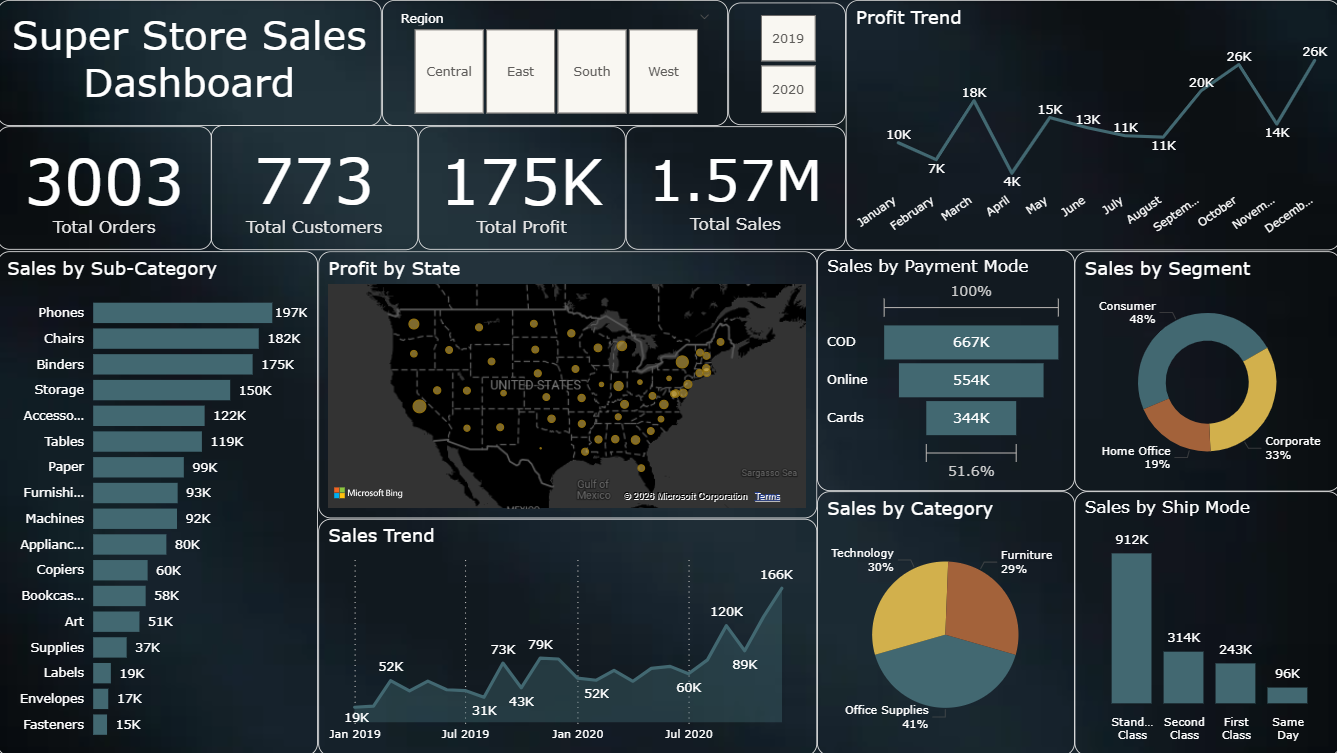

Layout of this report page (visuals, bound fields, positions):
{"tool":"powerbi","page":{"name":"Page 1","canvas":[1280,720],"ordinal":0},"visuals":[{"type":"pieChart","title":"Sales by Category","fields":{"Category":["SuperStore_Sales_Dataset.Category"],"Y":["Sum(SuperStore_Sales_Dataset.Sales)"]},"box":[781,467.9,245.2,252.4],"z":0},{"type":"columnChart","title":"Sales by Ship Mode","fields":{"Category":["SuperStore_Sales_Dataset.Ship Mode"],"Y":["Sum(SuperStore_Sales_Dataset.Sales)"]},"box":[1026.2,467.9,253.6,252.4],"z":1000},{"type":"areaChart","title":"Sales Trend","fields":{"Category":["SuperStore_Sales_Dataset.Order Date.Variation.Date Hierarchy.Year","SuperStore_Sales_Dataset.Order Date.Variation.Date Hierarchy.Month"],"Y":["Sum(SuperStore_Sales_Dataset.Sales)"]},"box":[306,494.1,475,226.2],"z":2000},{"type":"barChart","title":"Sales by Sub-Category","fields":{"Y":["Sum(SuperStore_Sales_Dataset.Sales)"],"Category":["SuperStore_Sales_Dataset.Sub-Category"]},"box":[0,239.3,306,481],"z":3000},{"type":"lineChart","title":"Profit Trend","fields":{"Category":["SuperStore_Sales_Dataset.Order Date.Variation.Date Hierarchy.Month"],"Y":["Sum(SuperStore_Sales_Dataset.Profit)"]},"box":[808.3,0,471.4,238.1],"z":4000},{"type":"donutChart","title":"Sales by Segment","fields":{"Category":["SuperStore_Sales_Dataset.Segment"],"Y":["Sum(SuperStore_Sales_Dataset.Sales)"]},"box":[1026.2,239.3,253.6,228.6],"z":5000},{"type":"funnel","title":"Sales by Payment Mode","fields":{"Category":["SuperStore_Sales_Dataset.Payment Mode"],"Y":["Sum(SuperStore_Sales_Dataset.Sales)"]},"box":[781,238.1,245.2,229.8],"z":6000},{"type":"map","title":"Profit by State","fields":{"Category":["SuperStore_Sales_Dataset.State"],"Size":["Sum(SuperStore_Sales_Dataset.Profit)"]},"box":[306,239.3,475,254.8],"z":7000},{"type":"card","fields":{"Values":["SuperStore_Sales_Dataset.Total Profit"]},"box":[401.2,120.2,197.6,117.9],"z":8000},{"type":"card","fields":{"Values":["SuperStore_Sales_Dataset.Total Sales"]},"box":[598.8,120.2,209.5,117.9],"z":9000},{"type":"card","fields":{"Values":["SuperStore_Sales_Dataset.Total Customers"]},"box":[203.6,119,197.6,119],"z":10000},{"type":"card","fields":{"Values":["SuperStore_Sales_Dataset.Total Order1"]},"box":[0,120.2,204.8,117.9],"z":11000},{"type":"textbox","box":[0,0,366.7,120.2],"z":12000},{"type":"slicer","fields":{"Values":["SuperStore_Sales_Dataset.Region"]},"box":[366.7,0,329.8,120.2],"z":13000},{"type":"slicer","fields":{"Values":["SuperStore_Sales_Dataset.Order Date.Variation.Date Hierarchy.Year"]},"box":[696.4,2.4,111.9,116.7],"z":14000}]}

Visuals, with their boxes in screenshot pixels (x1, y1, x2, y2), scaled from the page's 1280x720 canvas onto the 1337x753 screenshot:
"Sales by Category" pieChart: (x1=816, y1=489, x2=1072, y2=752)
"Sales by Ship Mode" columnChart: (x1=1072, y1=489, x2=1336, y2=752)
"Sales Trend" areaChart: (x1=320, y1=517, x2=816, y2=752)
"Sales by Sub-Category" barChart: (x1=0, y1=250, x2=320, y2=752)
"Profit Trend" lineChart: (x1=844, y1=0, x2=1336, y2=249)
"Sales by Segment" donutChart: (x1=1072, y1=250, x2=1336, y2=489)
"Sales by Payment Mode" funnel: (x1=816, y1=249, x2=1072, y2=489)
"Profit by State" map: (x1=320, y1=250, x2=816, y2=517)
card - SuperStore_Sales_Dataset.Total Profit: (x1=419, y1=126, x2=625, y2=249)
card - SuperStore_Sales_Dataset.Total Sales: (x1=625, y1=126, x2=844, y2=249)
card - SuperStore_Sales_Dataset.Total Customers: (x1=213, y1=124, x2=419, y2=249)
card - SuperStore_Sales_Dataset.Total Order1: (x1=0, y1=126, x2=214, y2=249)
textbox: (x1=0, y1=0, x2=383, y2=126)
slicer - SuperStore_Sales_Dataset.Region: (x1=383, y1=0, x2=728, y2=126)
slicer - SuperStore_Sales_Dataset.Order Date.Variation.Date Hierarchy.Year: (x1=727, y1=3, x2=844, y2=125)
